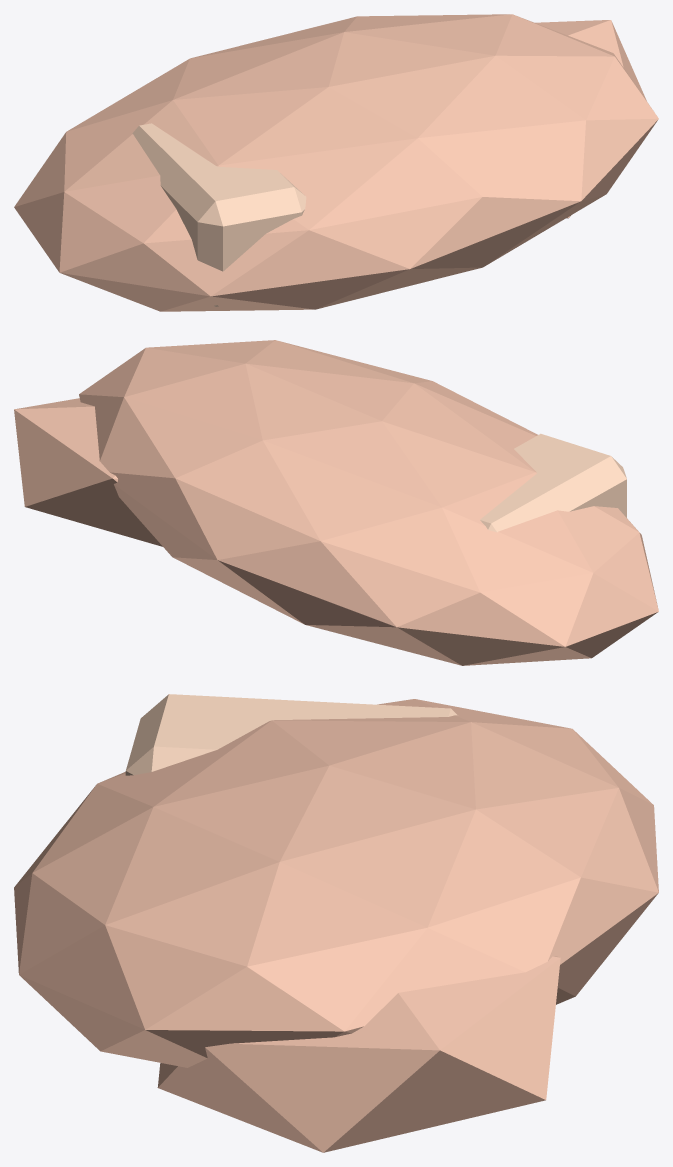
Rendered from FTF_Ingredient_RawChicken_ThickSlice.glb.
3 renders of one model, top to bottom at view 1: azimuth 30°, elevation 25°; view 2: azimuth 150°, elevation 25°; view 3: azimuth 270°, elevation 25°, orthographic. The views are drawn at different scales.
Parts seen in each view (by area): view 1: FTF_Ingredient_RawChicken_ThickSlice_StaticMesh; view 2: FTF_Ingredient_RawChicken_ThickSlice_StaticMesh; view 3: FTF_Ingredient_RawChicken_ThickSlice_StaticMesh.
Part boxes in pixels (x1,y1,x2,y2): FTF_Ingredient_RawChicken_ThickSlice_StaticMesh: (14,14,658,311); FTF_Ingredient_RawChicken_ThickSlice_StaticMesh: (14,340,658,665); FTF_Ingredient_RawChicken_ThickSlice_StaticMesh: (14,694,658,1152).
Size of the model in its own units: 0.879 by 0.2477 by 0.5677.
